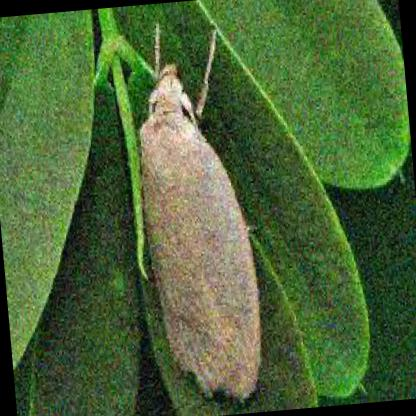Leaf Webber: (137, 60, 265, 401)
